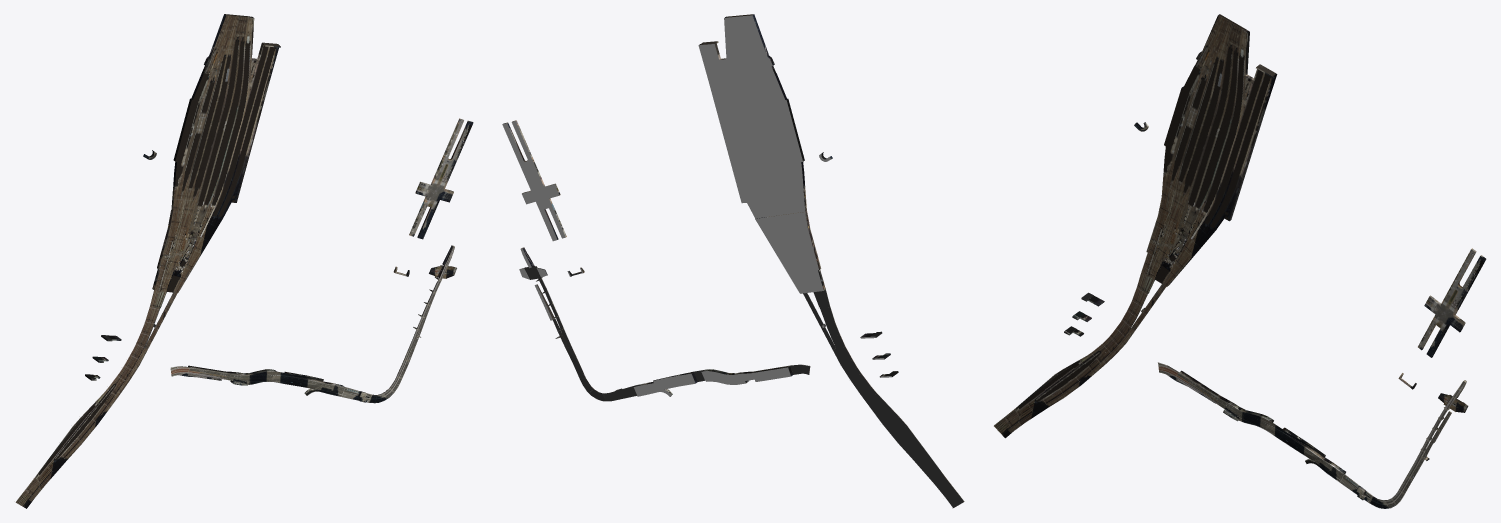
Rendered from 53394611_brid_6677.obj.
3 renders of one model, left to right at view 1: azimuth 30°, elevation 25°; view 2: azimuth 150°, elevation 25°; view 3: azimuth 330°, elevation 25°, orthographic. The views are drawn at different scales.
Size of the model in its own units: 1235 by 1143 by 36.58.
12 materials, 12 textured.
